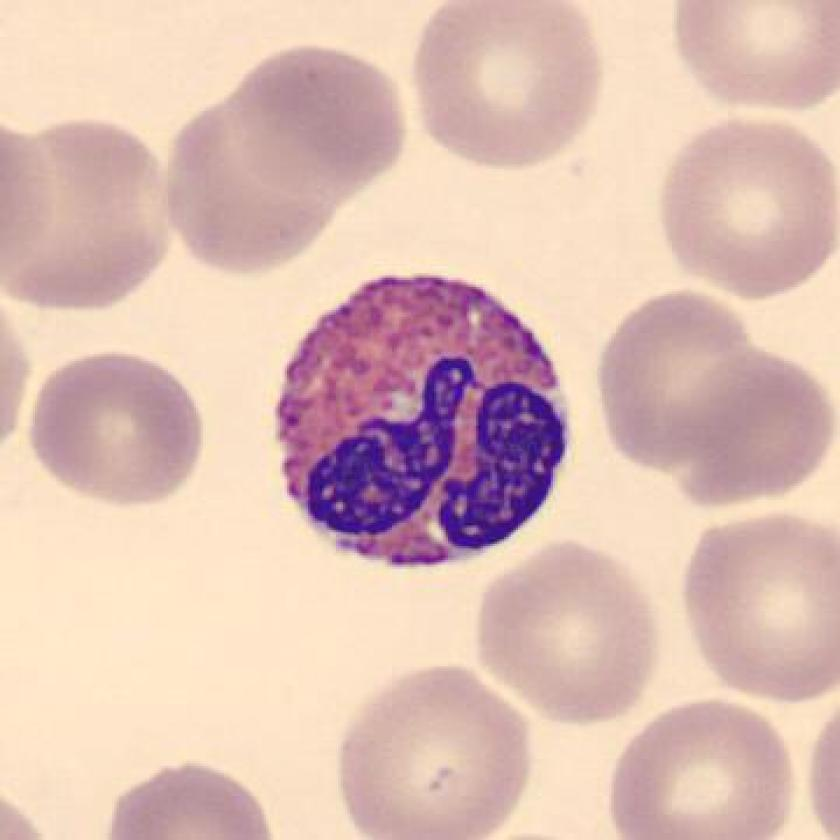eosinophil: (253, 263, 584, 587)
